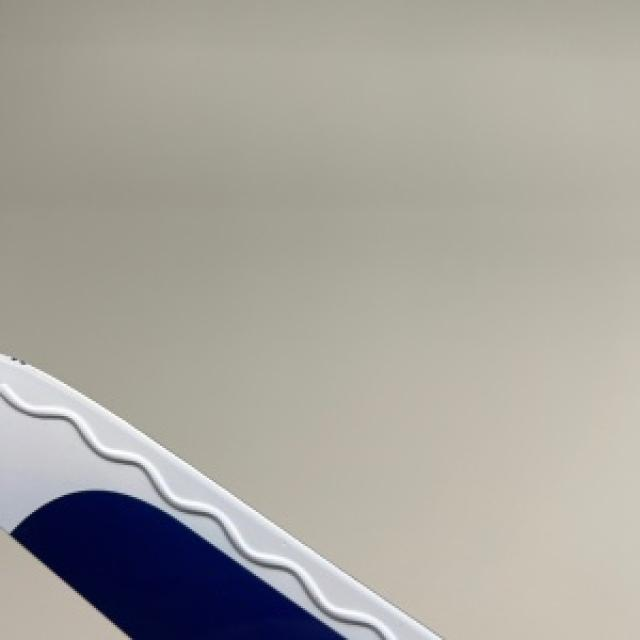healthy: (0, 352, 439, 638)
